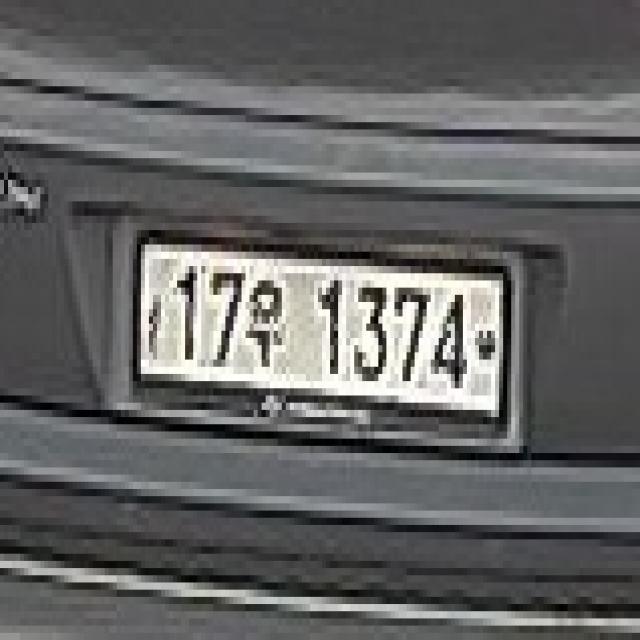1: (310, 266, 350, 396), (165, 252, 205, 381)
3: (346, 274, 391, 396)
4: (431, 273, 471, 403)
7: (386, 266, 431, 403), (205, 252, 246, 388)
license_plate: (129, 223, 519, 460)
u: (241, 266, 286, 388)
